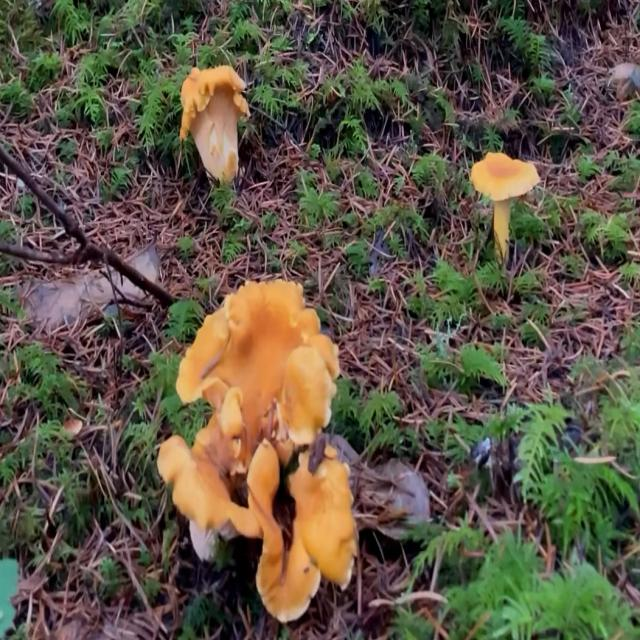chanterelle: (175, 281, 339, 463), (246, 439, 358, 623), (157, 420, 262, 539), (177, 67, 249, 187), (470, 154, 541, 257)
